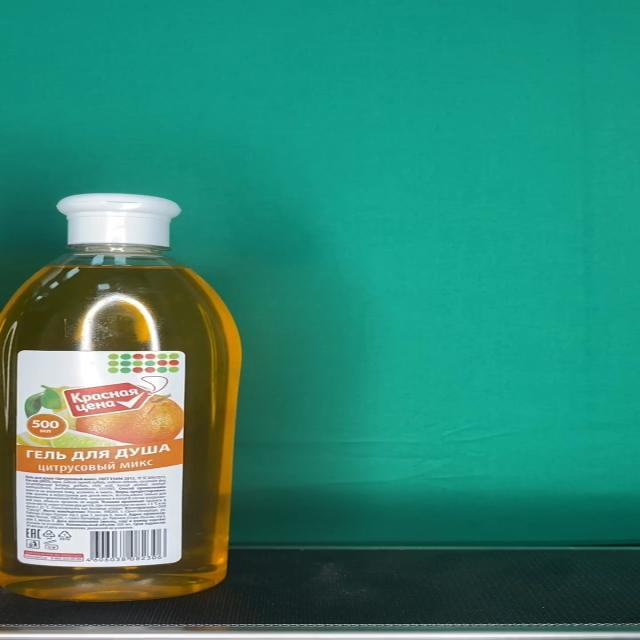Bottle: (0, 191, 243, 601)
Cap: (55, 193, 180, 246)
